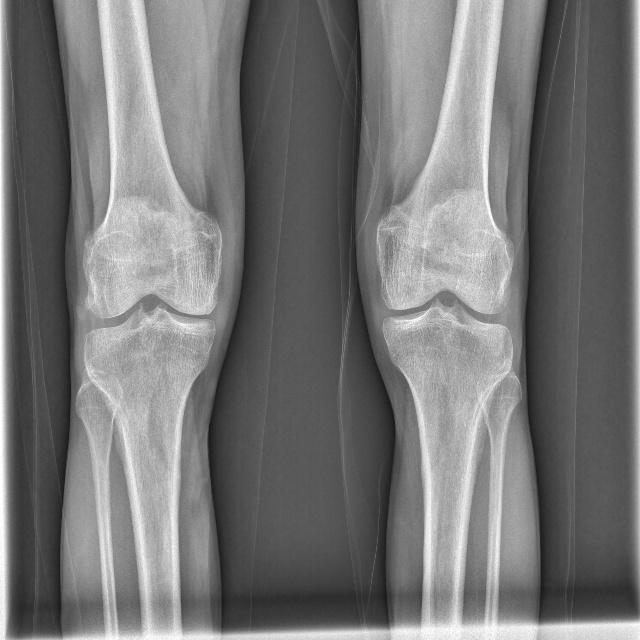Knee: (91, 248, 234, 379), (372, 257, 516, 363)
